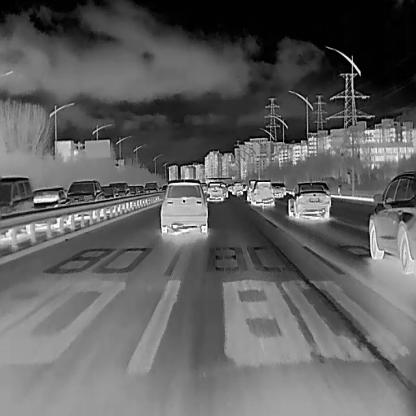car: (368, 169, 415, 273), (158, 178, 208, 235), (286, 180, 330, 218), (0, 174, 32, 224), (65, 178, 103, 210), (32, 186, 66, 214), (250, 180, 274, 206), (108, 180, 130, 200), (205, 180, 223, 202), (98, 184, 115, 202), (269, 182, 283, 198), (230, 180, 244, 195), (144, 180, 158, 194), (128, 184, 139, 196)
